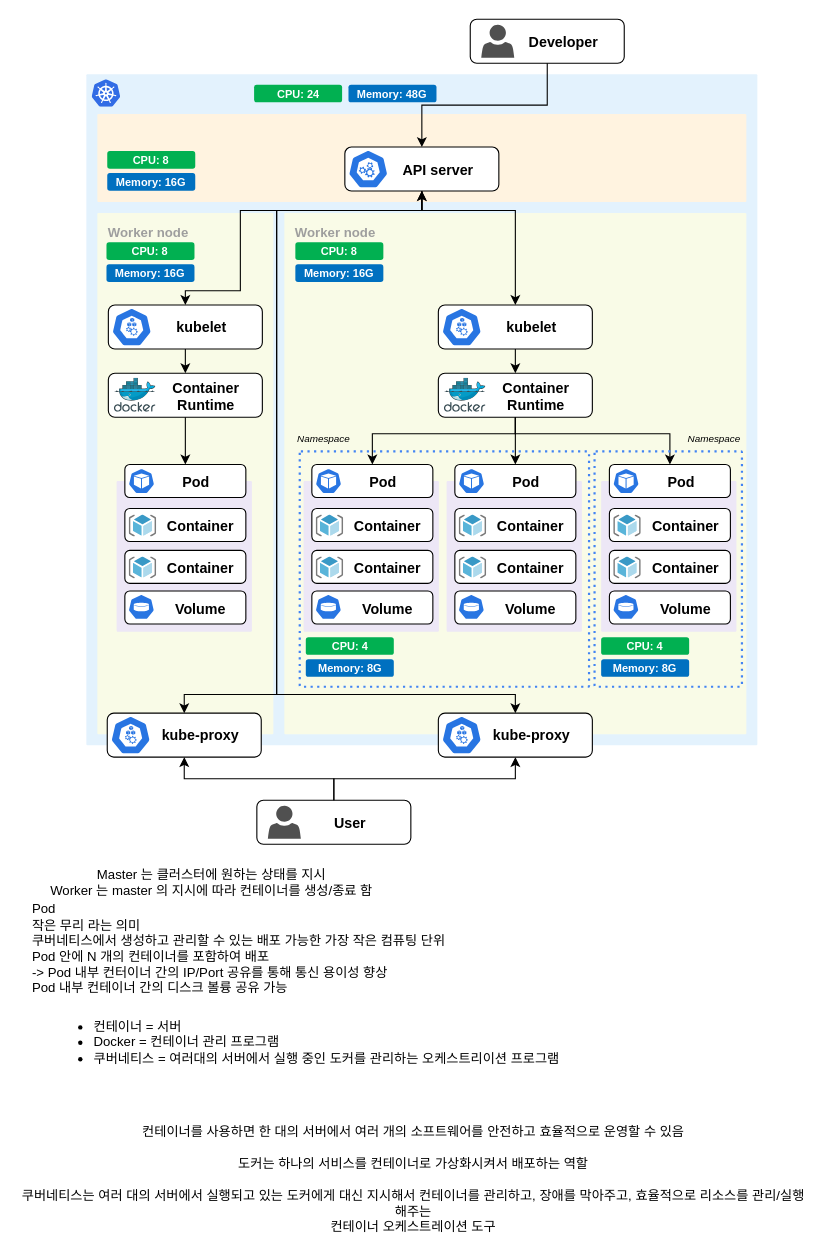
Some shapes in this 826 by 1254 pixel diagram are drawn without their labels. Each missing label, with the box of its shape:
Kubernetes cluster: (86, 74, 757, 745)
Master node: (97, 114, 746, 202)
